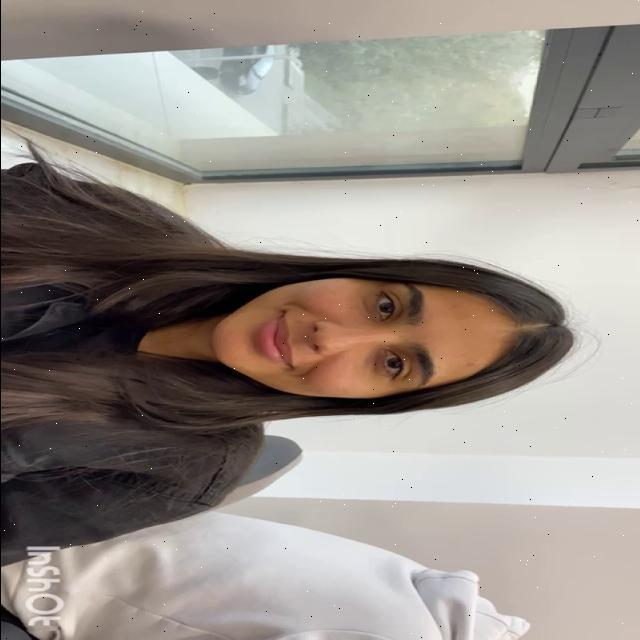happy: (206, 266, 514, 406)
